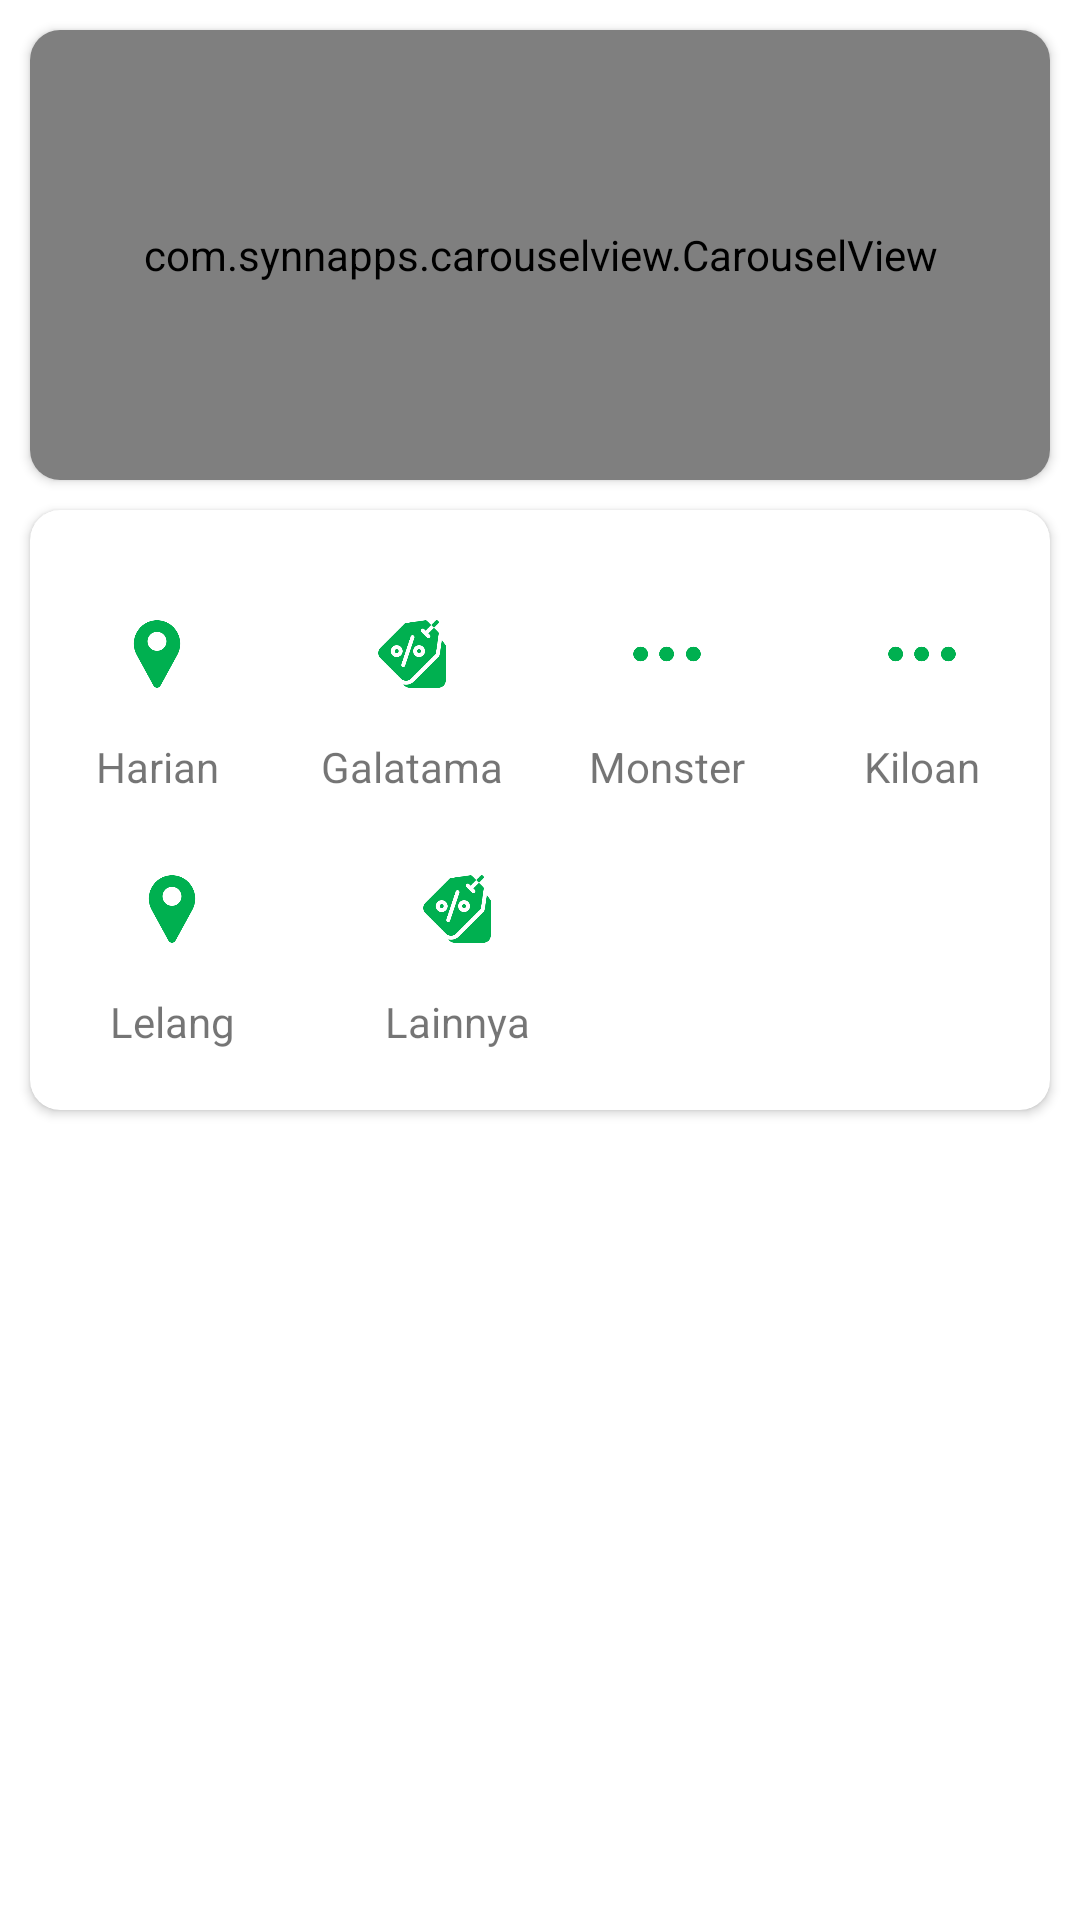

Locate icon controls on the screen. Image size 1080 x 1920, boxes as (x1, y1, x2, y2).
maps: (134, 620, 180, 688), (149, 875, 195, 943)
opsion: (633, 646, 701, 662), (888, 646, 956, 662)
